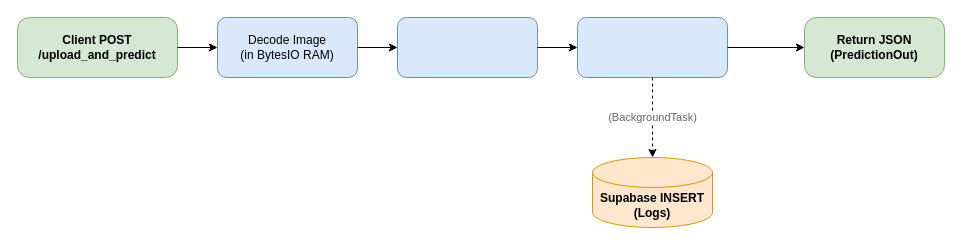
The diagram is 962 pixels wide and 245 high, and some of its shapes have lost their labels. Here are the shapes that lost their labels. From the top down, the centre of each, then its label:
the point at 467,47: detect_and_crop() (CV Preprocessing)
the point at 652,47: MobileNetV2 predict() (AI Inference)
